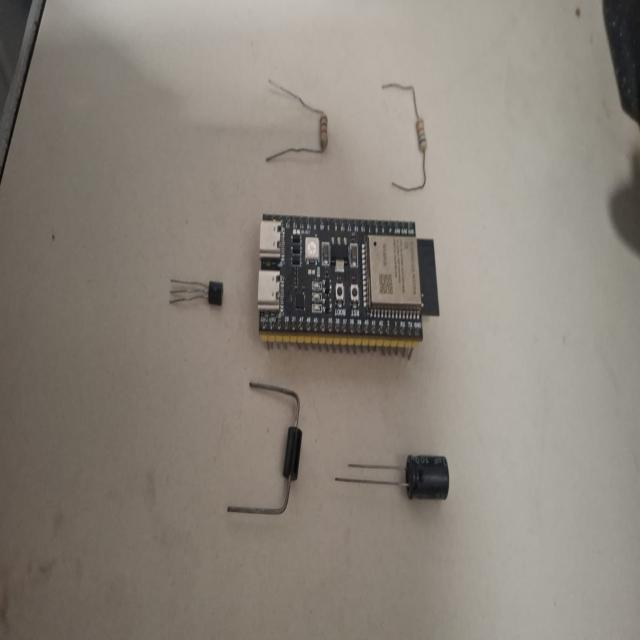Capacitor: (335, 453, 450, 502)
Diodo: (227, 381, 303, 515)
ESP32: (258, 214, 439, 359)
Resistencia: (265, 78, 329, 162), (381, 82, 427, 192)
Transistor: (170, 279, 223, 306)
